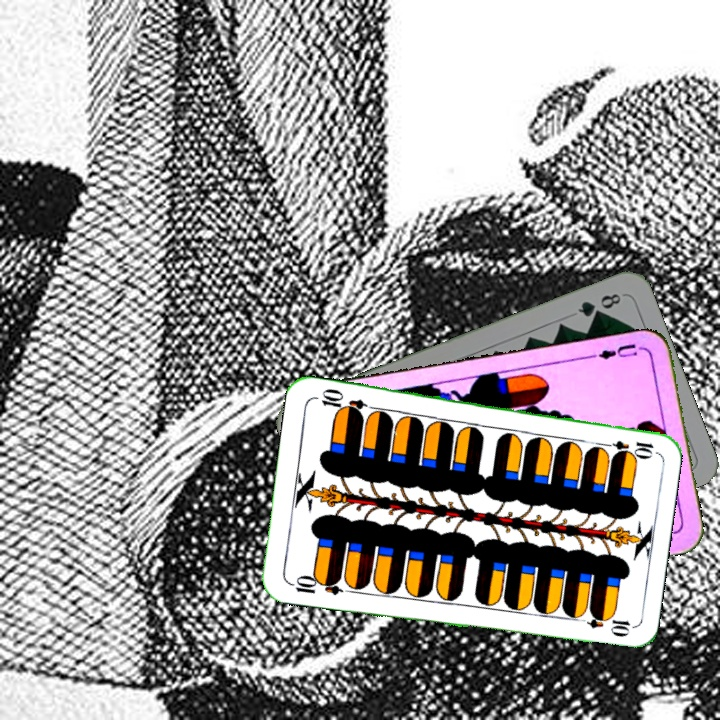E10: (285, 571, 344, 598), (597, 436, 657, 456)
EU: (589, 339, 648, 362)
G8: (574, 289, 626, 320)
